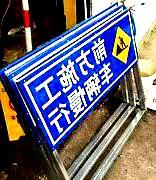sign: (29, 21, 127, 143)
